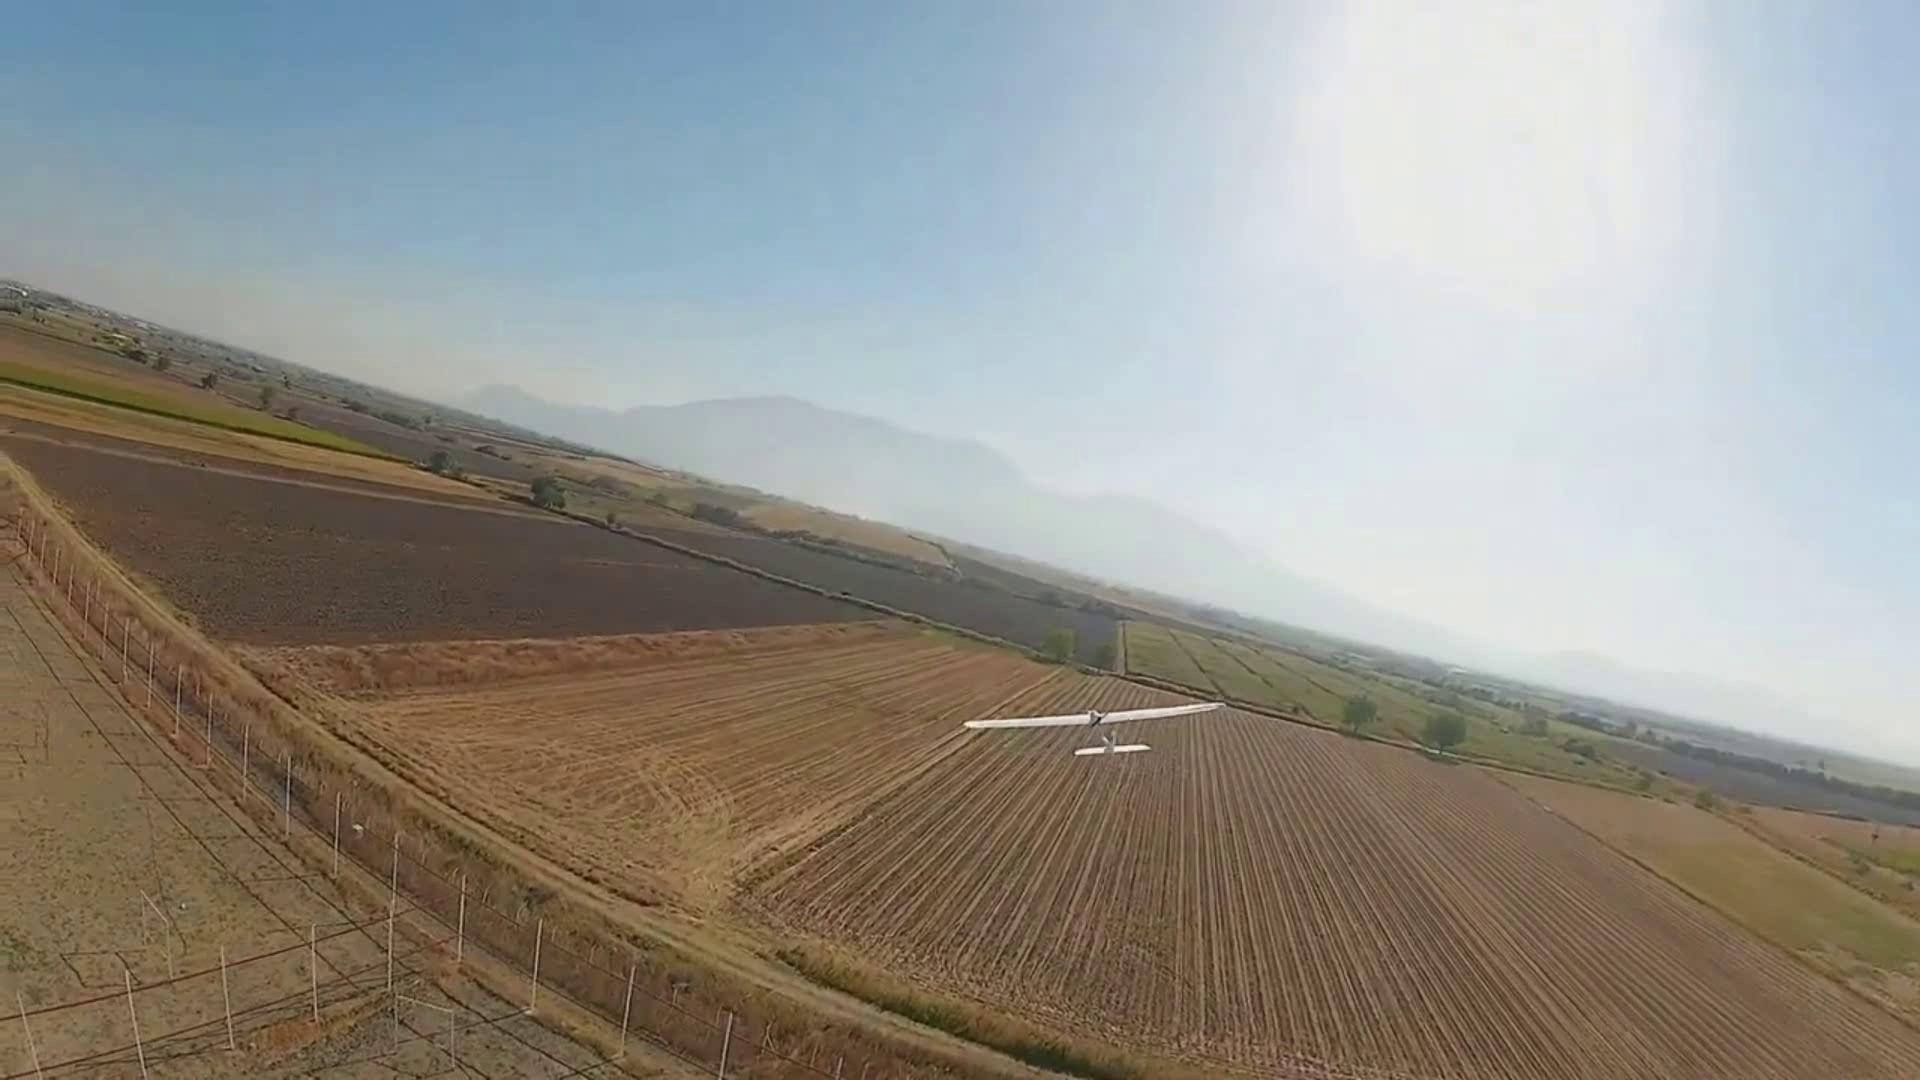airplane: (3, 275, 1909, 797)
